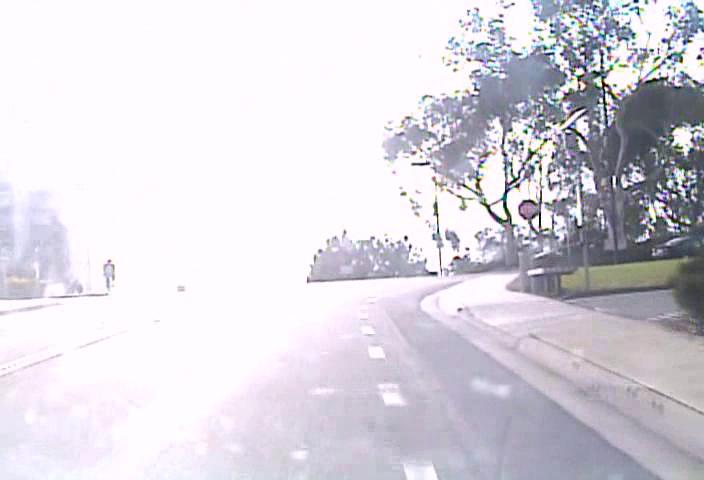stop: (517, 198, 539, 220)
